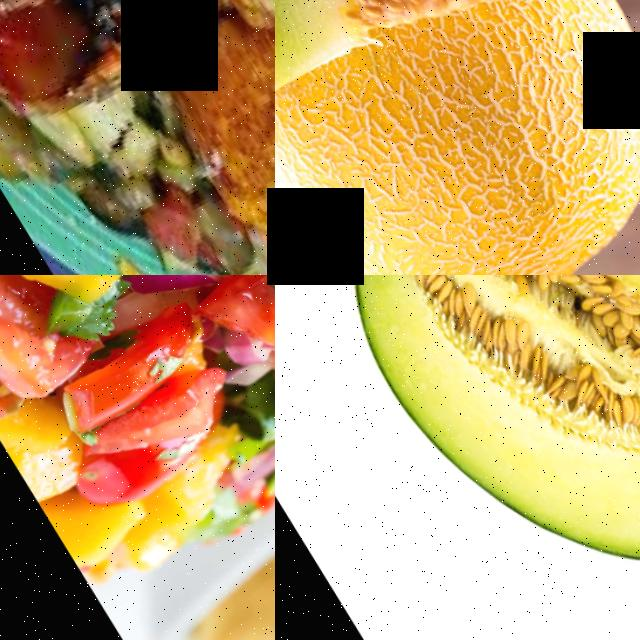melon: (275, 275, 640, 640), (275, 0, 640, 275), (275, 0, 640, 136)
